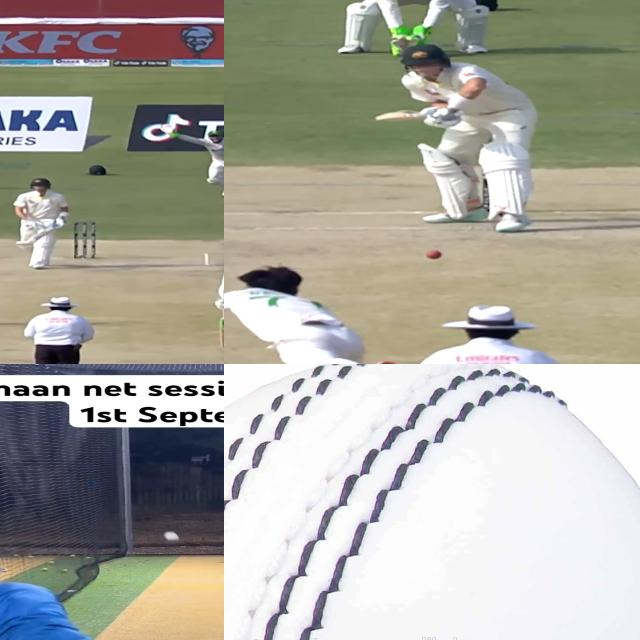Cricket ball: (224, 364, 640, 640), (424, 249, 444, 260), (163, 530, 177, 542)
Stumps: (74, 221, 97, 259)
